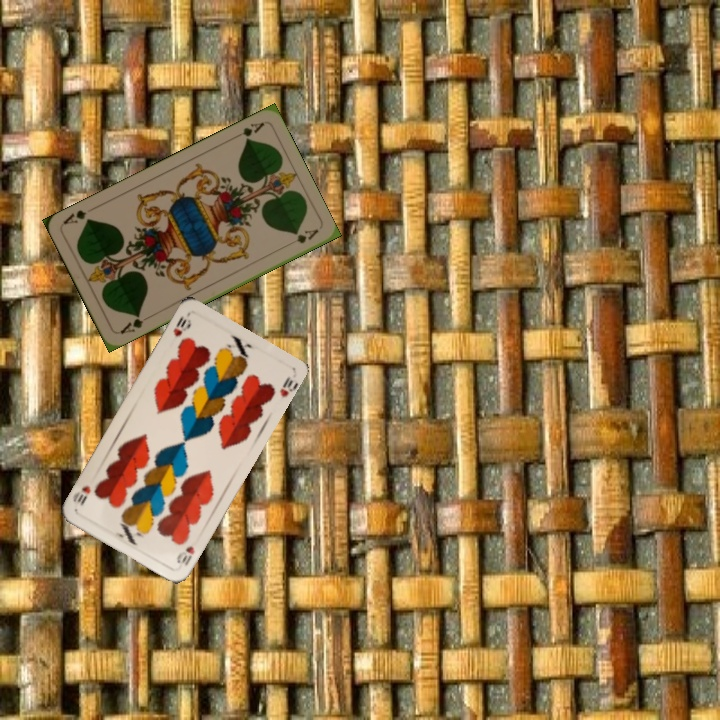GA: (116, 310, 153, 337), (229, 118, 267, 143)
H10: (169, 310, 194, 339), (172, 542, 197, 568)
